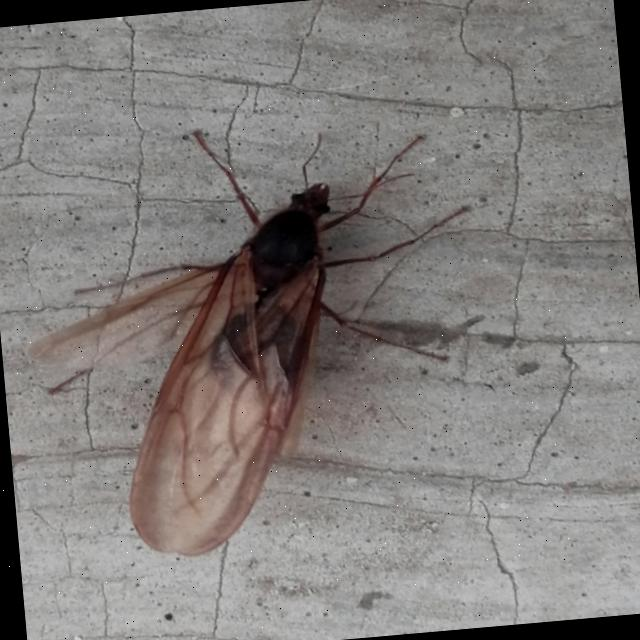Alive-Male-Alate: (8, 107, 497, 569)
